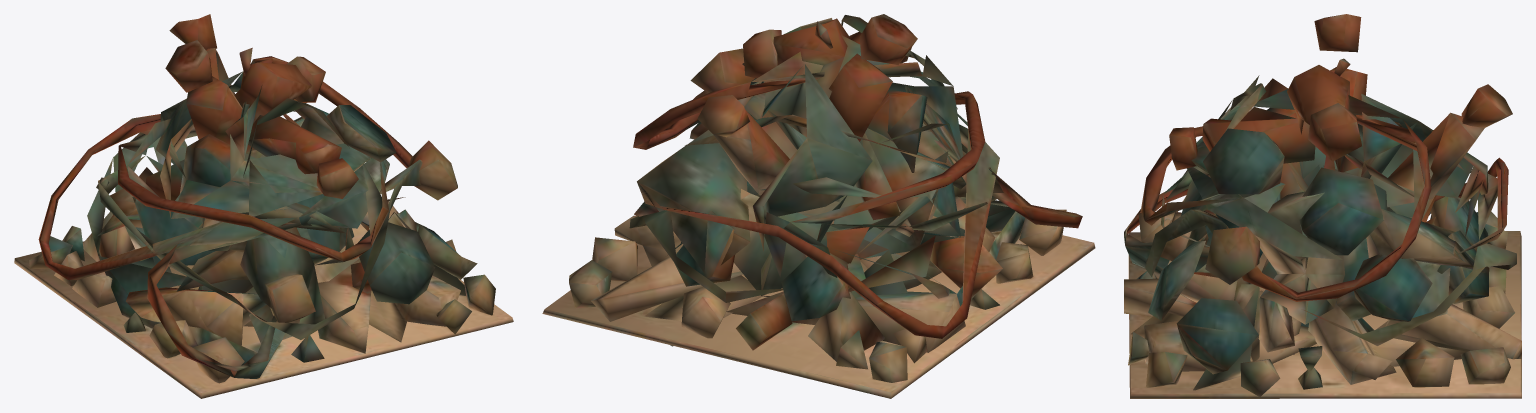
The model's file is salvage-copper.glb.
3 renders of one model, left to right at view 1: azimuth 30°, elevation 25°; view 2: azimuth 150°, elevation 25°; view 3: azimuth 270°, elevation 25°, orthographic. The views are drawn at different scales.
Parts seen in each view (by area): view 1: salvage-copper; view 2: salvage-copper; view 3: salvage-copper.
Boxes of the visible parts, x1,y1,x2,y2 form: salvage-copper: (14,14,513,398); salvage-copper: (542,14,1095,398); salvage-copper: (1124,14,1521,398).
Size of the model in its own units: 0.85 by 0.6559 by 0.85.
1 material, 1 textured.
